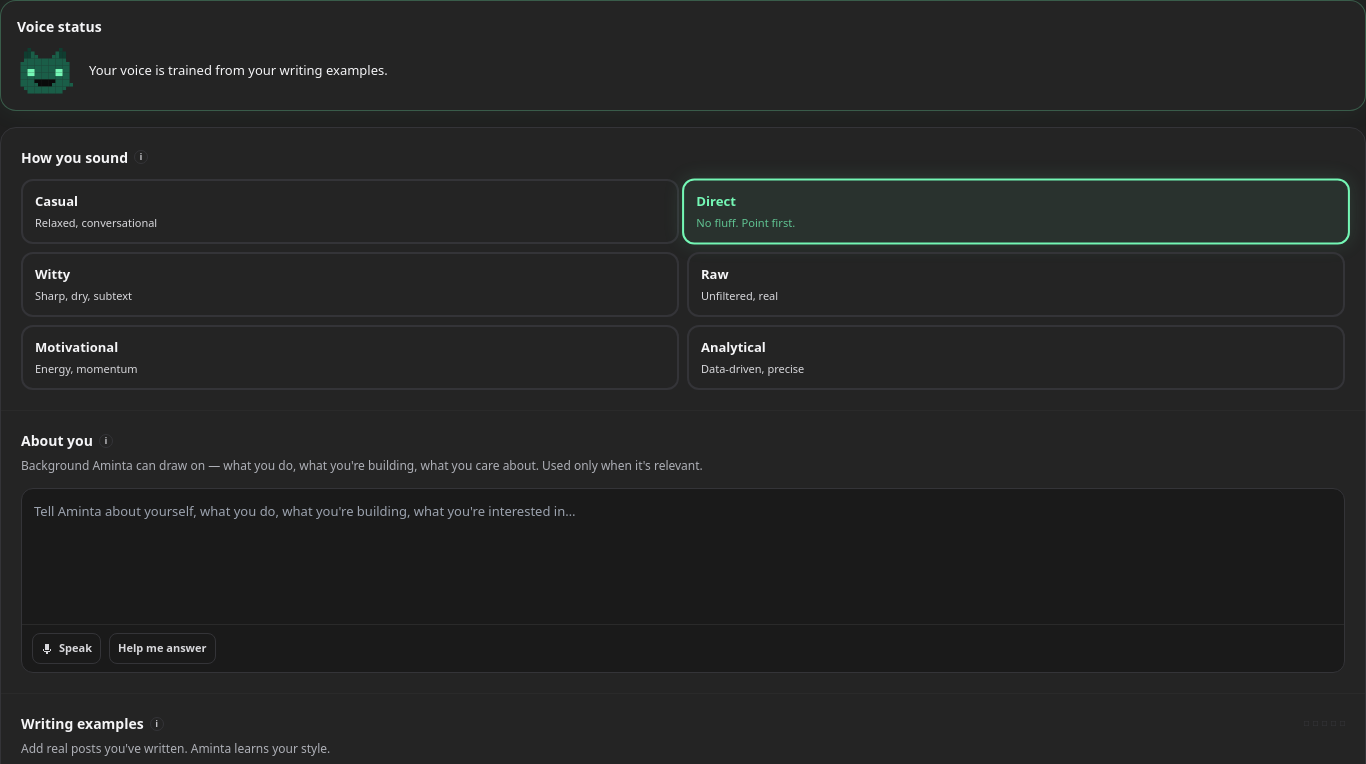
Test: microphone inside the real field component › shows a listening state and can be stopped by the user
The width and height of the screenshot is (1366, 764).
Click the button "Speak": (66, 649) [32, 633, 101, 664]
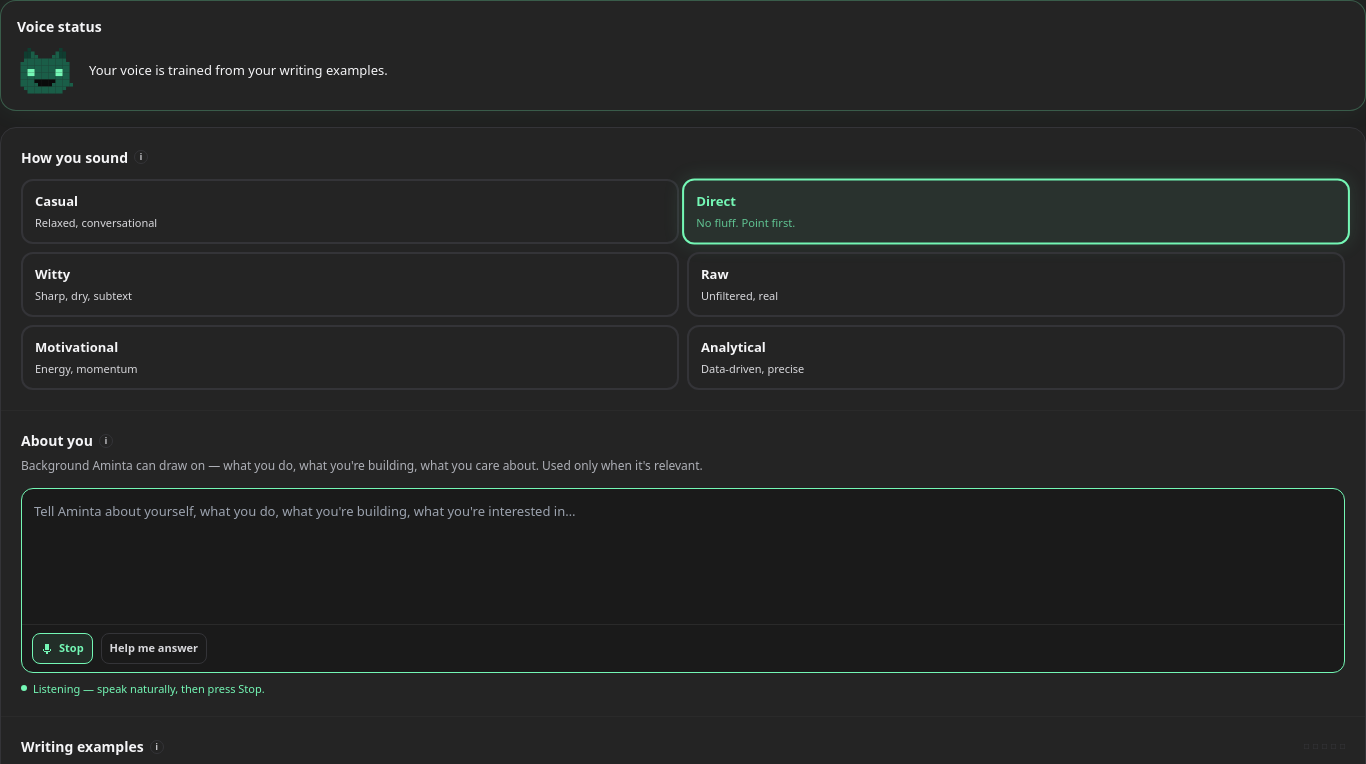
Expected: the text "Listening" is shown, [33, 681, 265, 696]
Click the button "Stop": (62, 649) [32, 633, 93, 664]
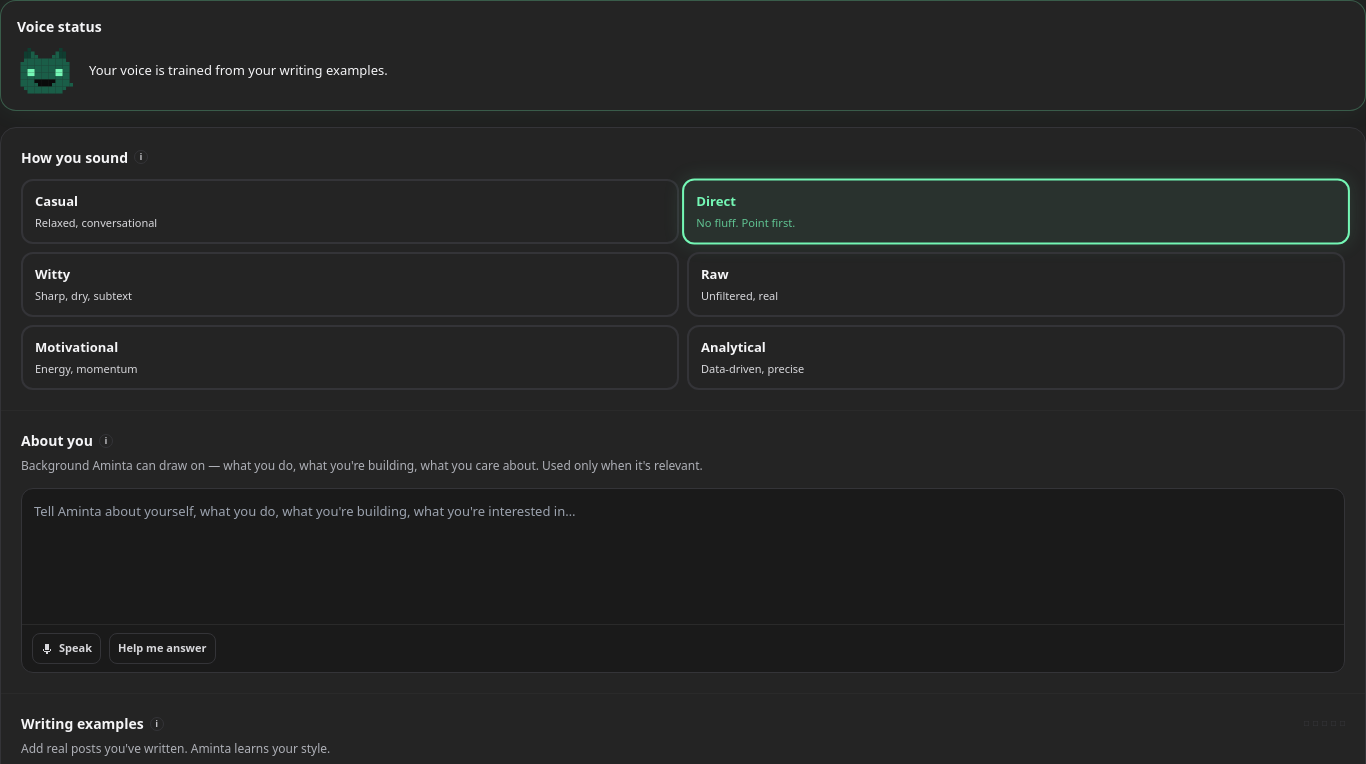
Expected: the text "Listening" is gone
